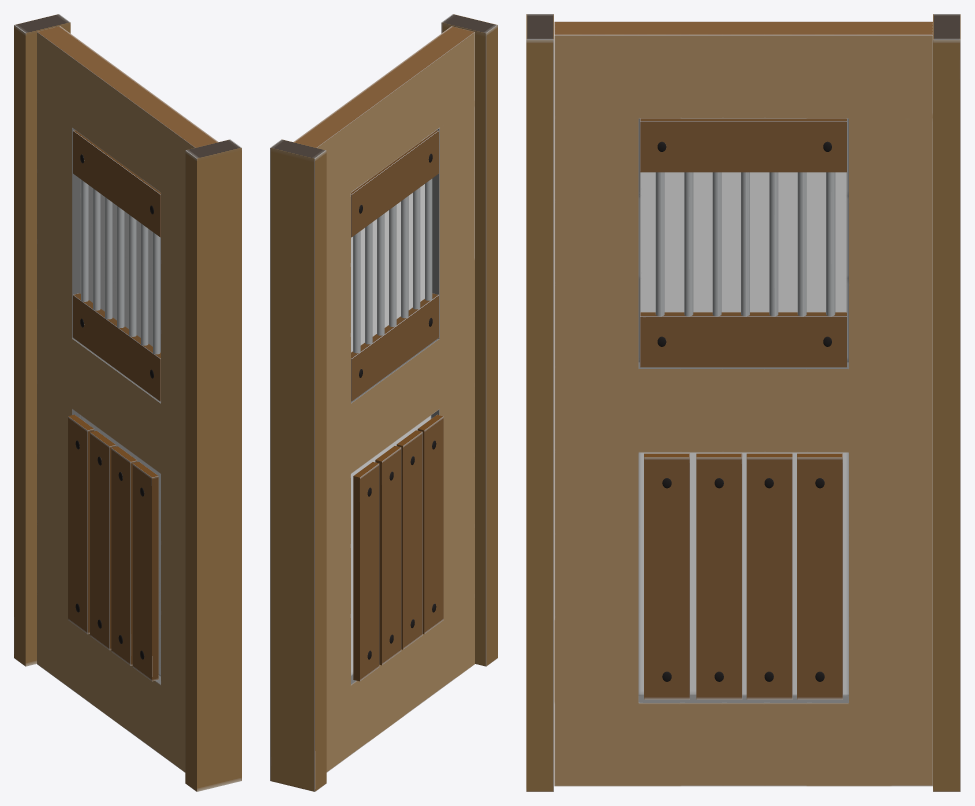
File: Door02.fbx
3 renders of one model, left to right at view 1: azimuth 30°, elevation 25°; view 2: azimuth 150°, elevation 25°; view 3: azimuth 270°, elevation 25°, orthographic. The views are drawn at different scales.
Visible parts, largest first — view 1: DoorB; view 2: DoorB; view 3: DoorB.
Boxes of the visible parts, bbox=[...] form: DoorB: bbox=[14, 14, 241, 791]; DoorB: bbox=[270, 14, 497, 791]; DoorB: bbox=[526, 14, 960, 791].
Bounding box in the file's own units: 64.36 × 865 × 453.
Materials: 1 (1 with a texture image).
